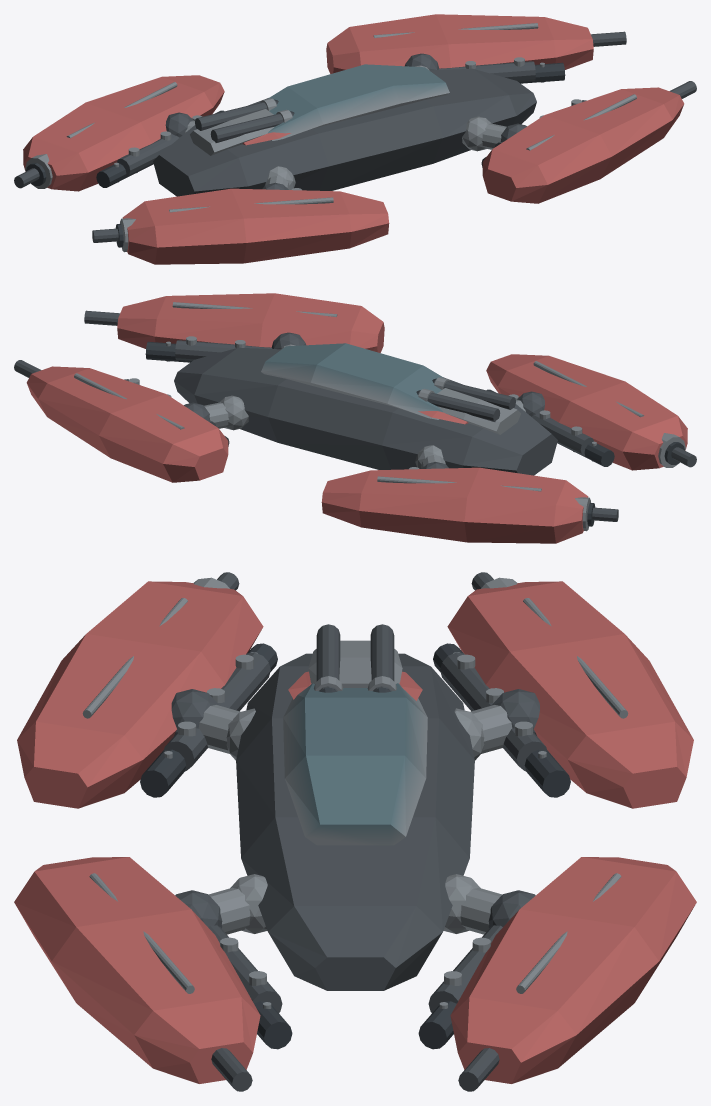
File: x5_red_compact_off.glb
3 views of the same model, one above another, from view 1: azimuth 30°, elevation 25°; view 2: azimuth 150°, elevation 25°; view 3: azimuth 270°, elevation 25° (orthographic). The views are drawn at different scales.
Visible parts, largest first — view 1: pod_armor_10, center_hull_0, cabin_base_1, pod_mechanics_15, missile_body_3, pod_rail_11, forward_gun_12, launcher_saddle_2, outer_joint_9, inner_drive_rail_17, inner_joint_7, mechanical_arms_8 (+2 smaller); view 2: pod_armor_10, center_hull_0, cabin_base_1, pod_mechanics_15, missile_body_3, pod_rail_11, forward_gun_12, launcher_saddle_2, outer_joint_9, inner_drive_rail_17, inner_joint_7, mechanical_arms_8 (+2 smaller); view 3: pod_armor_10, center_hull_0, cabin_base_1, pod_mechanics_15, inner_drive_rail_17, mechanical_arms_8, outer_joint_9, inner_joint_7, pod_rail_11, missile_body_3, forward_gun_12, mechanical_crossbeam_16 (+1 smaller).
Boxes of the visible parts, box(x1,y1,x2,y2) form: pod_armor_10: box(23, 14, 684, 264); center_hull_0: box(153, 68, 536, 196); cabin_base_1: box(268, 64, 449, 140); pod_mechanics_15: box(117, 61, 586, 177); missile_body_3: box(195, 100, 292, 142); pod_rail_11: box(66, 23, 636, 212); forward_gun_12: box(14, 31, 696, 242); launcher_saddle_2: box(190, 109, 273, 155); outer_joint_9: box(165, 53, 526, 189); inner_drive_rail_17: box(96, 62, 565, 187); inner_joint_7: box(267, 116, 491, 189); mechanical_arms_8: box(185, 65, 506, 189); pod_armor_10: box(26, 293, 687, 543); center_hull_0: box(174, 347, 557, 475); cabin_base_1: box(261, 343, 443, 419); pod_mechanics_15: box(124, 340, 593, 456); missile_body_3: box(418, 379, 515, 421); pod_rail_11: box(74, 302, 644, 491); forward_gun_12: box(14, 310, 696, 521); launcher_saddle_2: box(437, 388, 520, 434); outer_joint_9: box(184, 332, 544, 468); inner_drive_rail_17: box(145, 341, 614, 466); inner_joint_7: box(219, 395, 443, 468); mechanical_arms_8: box(204, 344, 525, 468); pod_armor_10: box(14, 581, 696, 1083); center_hull_0: box(236, 653, 474, 990); cabin_base_1: box(283, 683, 427, 845); pod_mechanics_15: box(163, 652, 547, 1012); inner_drive_rail_17: box(140, 643, 570, 1049); mechanical_arms_8: box(198, 705, 512, 934); outer_joint_9: box(171, 689, 539, 928); inner_joint_7: box(226, 708, 484, 933); pod_rail_11: box(82, 598, 628, 993); missile_body_3: box(316, 624, 394, 691); forward_gun_12: box(211, 572, 499, 1091); mechanical_crossbeam_16: box(178, 654, 532, 985).
Bounding box in the file's own units: 7.07 × 0.9 × 4.06.
